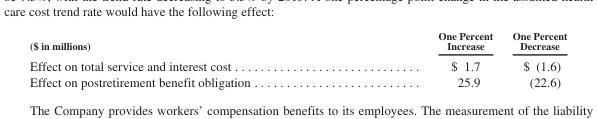table: (28, 29, 566, 88)
table column: (28, 29, 343, 88), (343, 29, 501, 88), (501, 29, 566, 88)
table column header: (28, 29, 566, 55)
table row: (28, 29, 566, 55), (28, 55, 566, 73), (28, 73, 566, 88)
